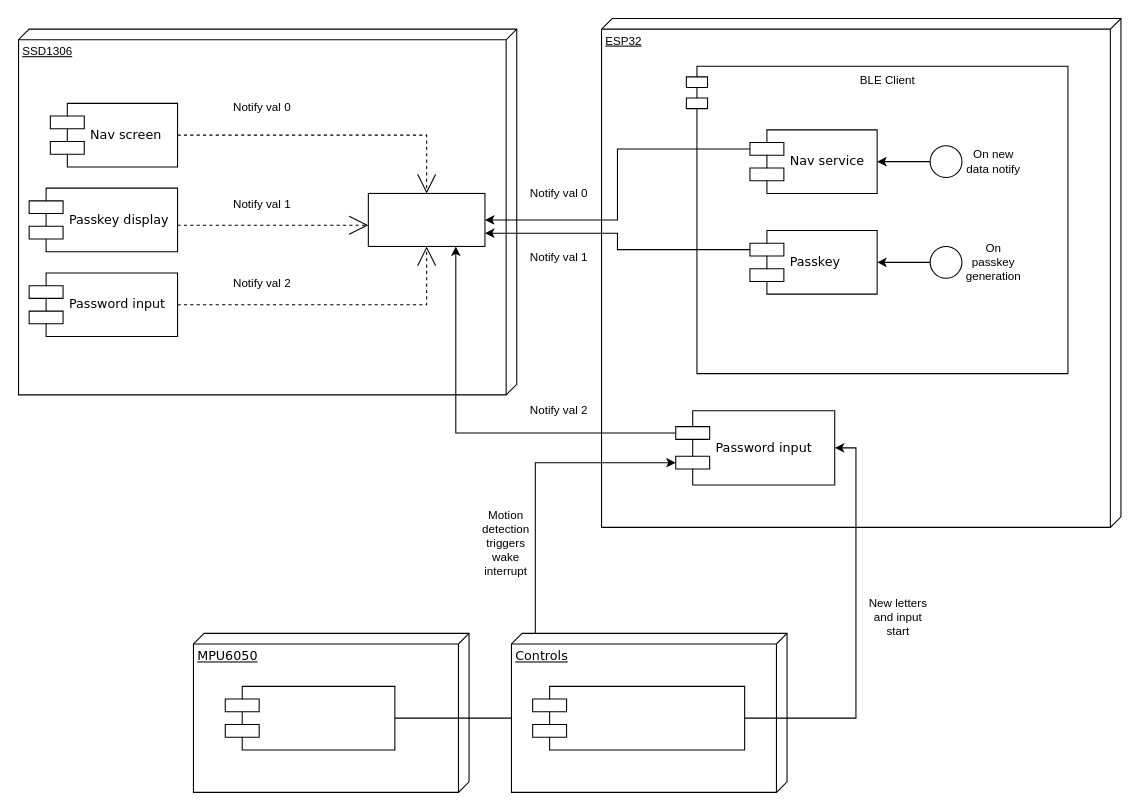
Some shapes in this 1139 by 811 pixel diagram are drawn without their labels. Here are the shapes that lost their labels. From the top down, the centre of each, then its label:
At point 426,219: "«interface» Wait for notify".
At point 309,717: "Motion detection".
At point 638,717: "Left/right shifter buttons".
